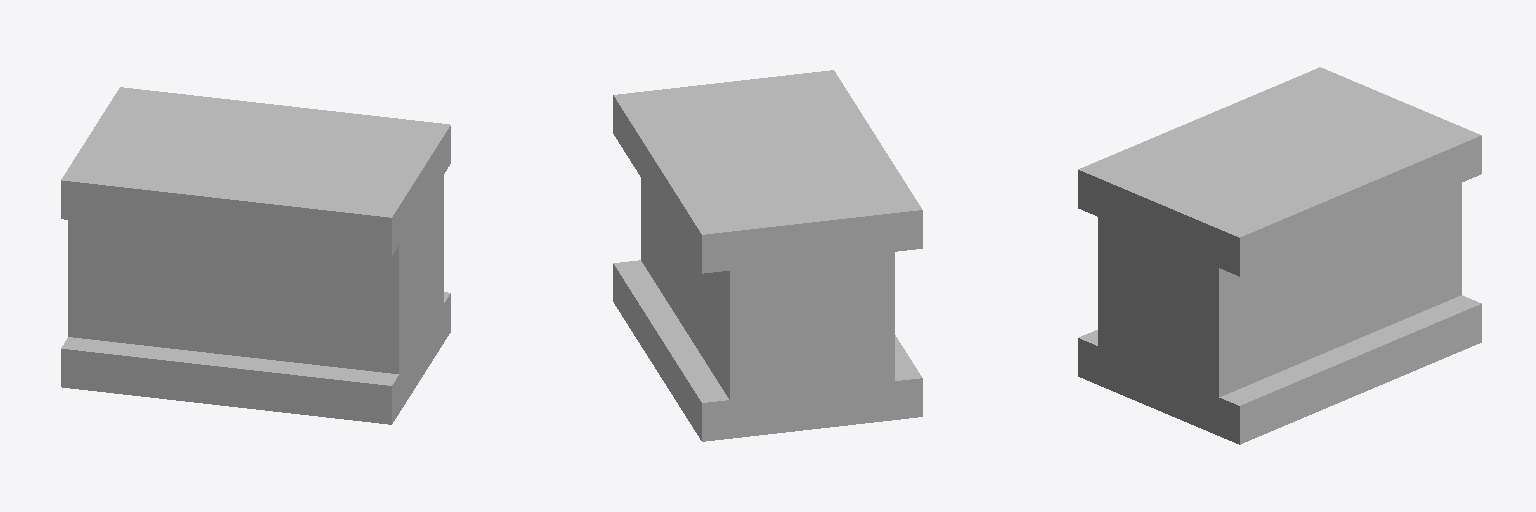
File: diag.obj
3 views of the same model, side by side, from view 1: azimuth 30°, elevation 25°; view 2: azimuth 150°, elevation 25°; view 3: azimuth 270°, elevation 25° (orthographic).
Parts seen in each view (by area): view 1: middle; view 2: middle; view 3: middle.
Boxes of the visible parts, x1=… form: middle: x1=61, y1=87, x2=450, y2=424; middle: x1=613, y1=70, x2=922, y2=441; middle: x1=1078, y1=67, x2=1481, y2=444.
Bounding box in the file's own units: 1.77 × 1 × 1.77.